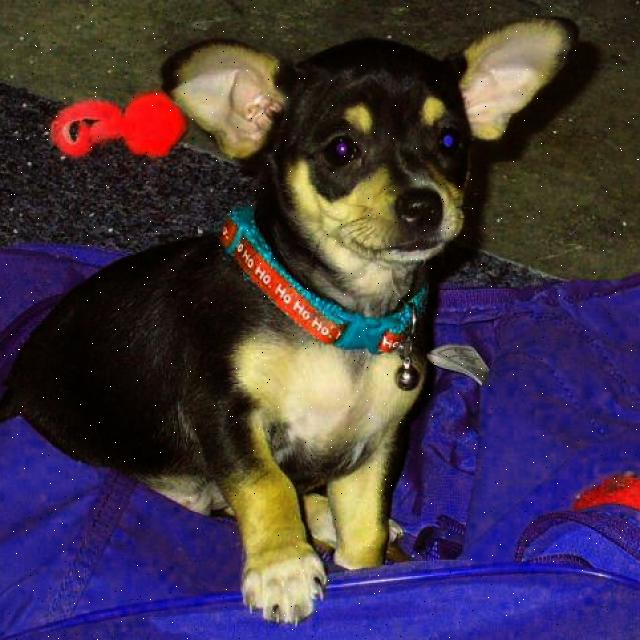Dog: (127, 0, 610, 279)
